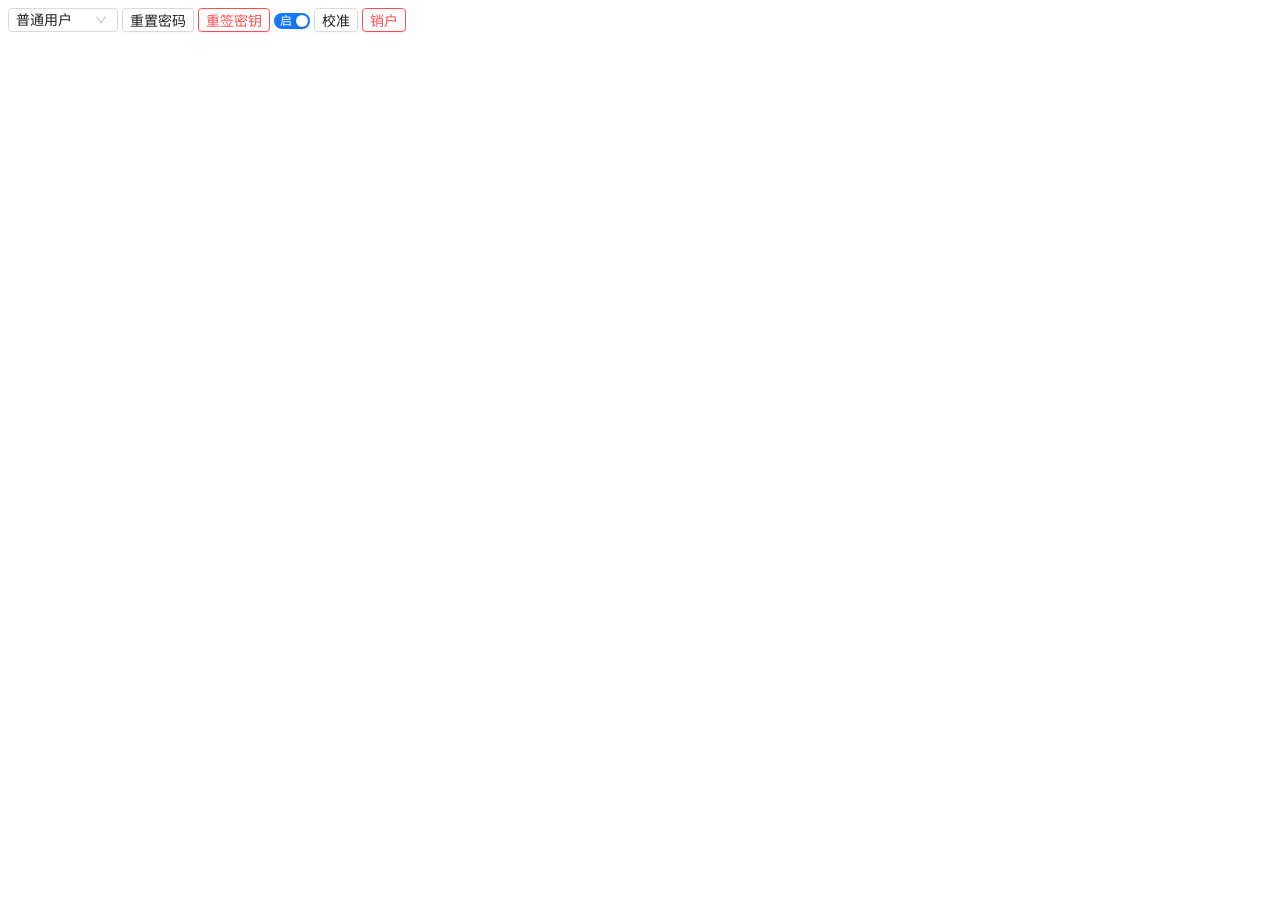
Test: UserActions › 重签密钥强提示旧 key 立即失效，成功后刷新
Later steps or results of the test are not shown.
Expected: the element with test id "user-actions" is shown, [8,8,406,32]
Click the button "重签密钥": (234, 20) [198,8,270,32]
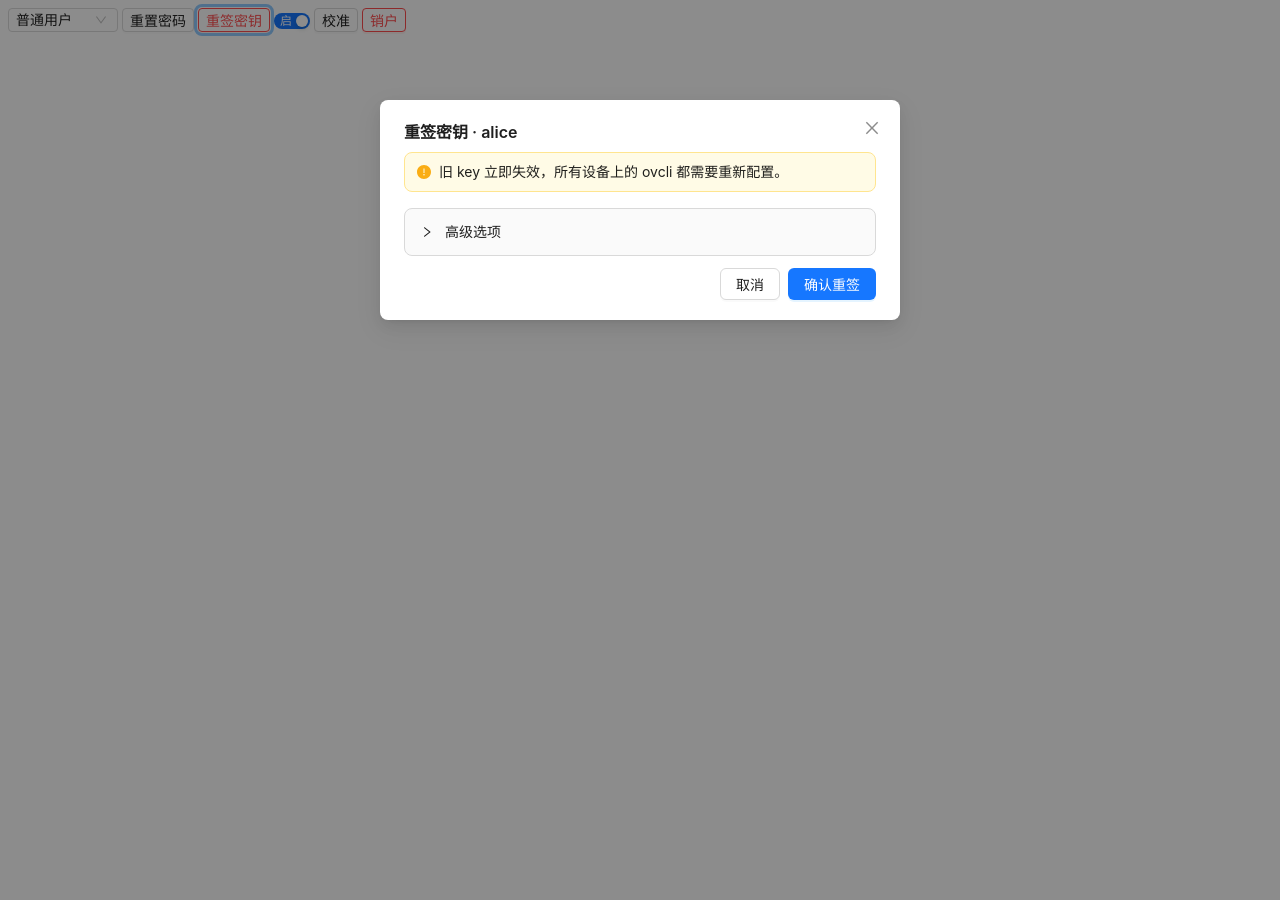
Expected: the text "旧 key 立即失效，所有设备上的 ovcli 都需要重新配置。" is shown, [439,163,788,180]
